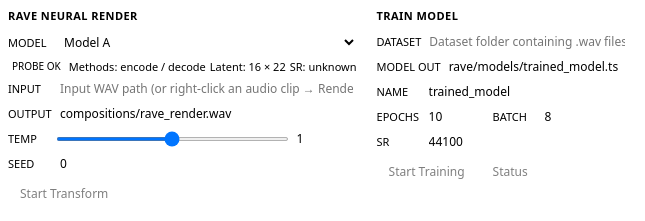
Scenario: NeuralPanel › (j) training progress updates status and ignores unrelated ids
Type "C:/data/rave" into the field with placeholder "Dataset folder containing .wav files". click: (527, 42)
box: [425,31,629,52]
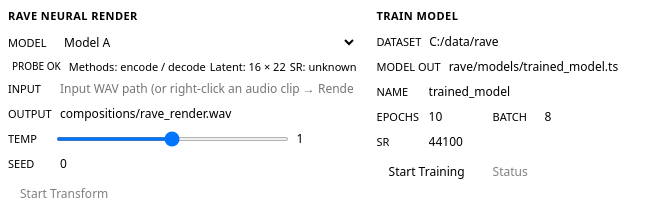
Click the button "Start Training". click: (426, 172)
box: [376,160,476,183]
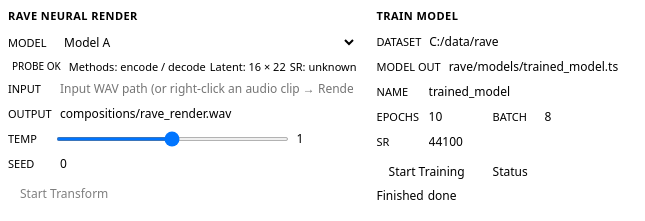
Now the text "finished" is shown, box [376,187,424,204]
Now the text "done" is shown, box [428,187,456,204]
